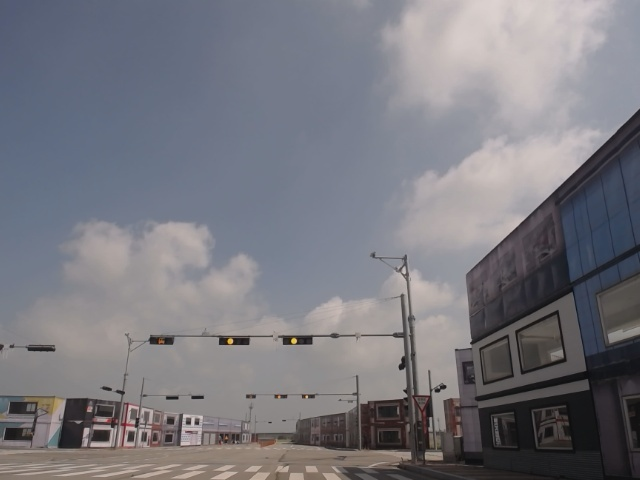orange_4: (219, 337, 251, 346), (282, 335, 312, 344)
